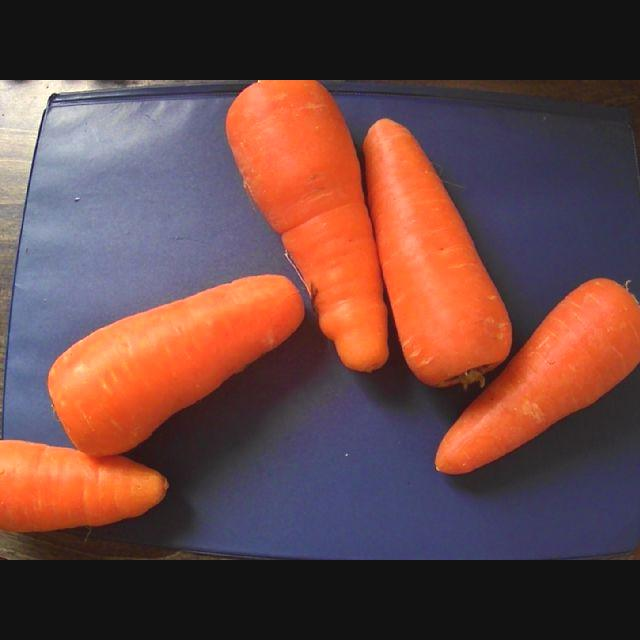zanahoria: (228, 80, 389, 371), (49, 274, 304, 455), (437, 278, 640, 474), (364, 118, 511, 388), (1, 440, 167, 531)
